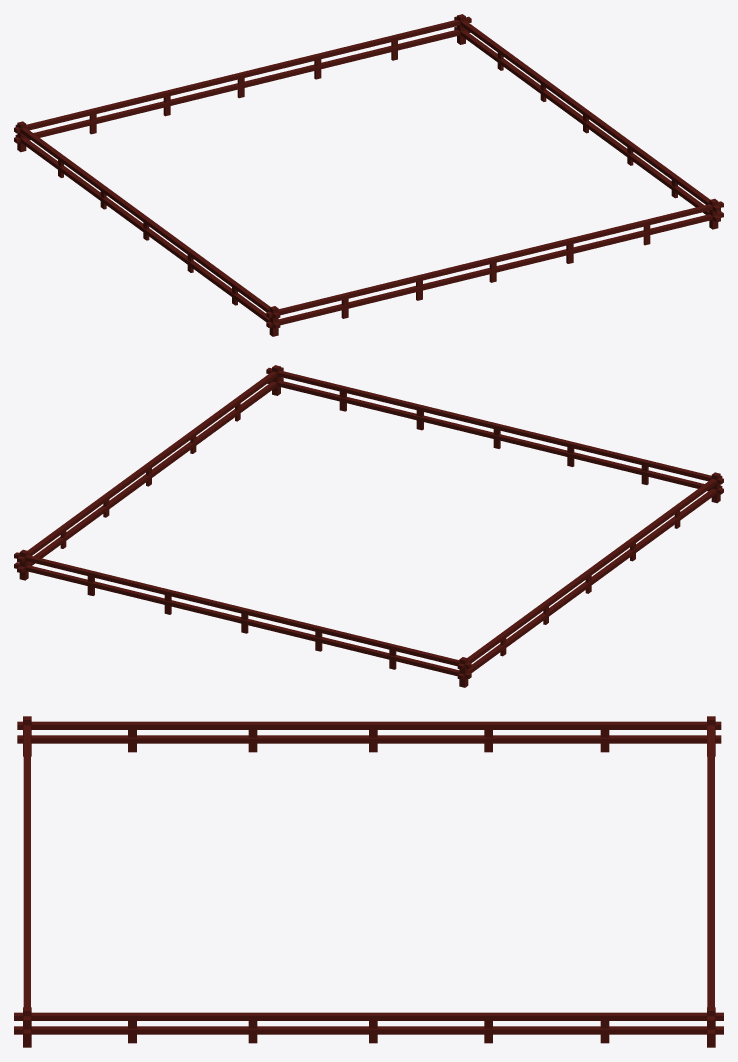
The model's file is fence3.fbx.
3 views of the same model, one above another, from view 1: azimuth 30°, elevation 25°; view 2: azimuth 150°, elevation 25°; view 3: azimuth 270°, elevation 25° (orthographic). The views are drawn at different scales.
Visible parts, largest first — view 1: fence3; view 2: fence3; view 3: fence3.
Part boxes in pixels (bbox=[...]): fence3: bbox=[14, 14, 723, 336]; fence3: bbox=[14, 365, 723, 687]; fence3: bbox=[14, 716, 723, 1047].
Size of the model in its own units: 2768 by 158 by 2759.
